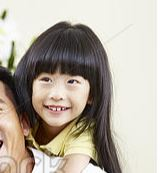smile: (28, 49, 88, 127)
